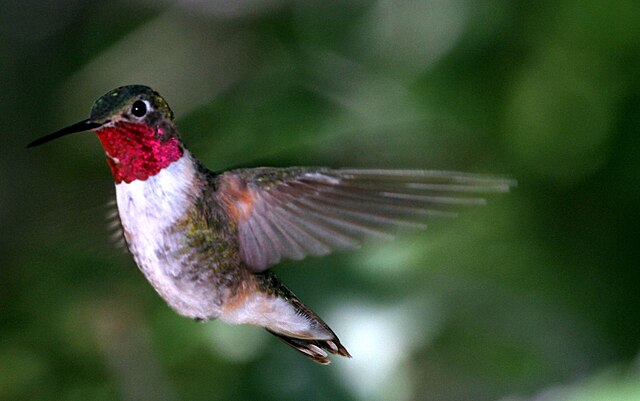selasphorus platycercus: (24, 83, 516, 358)
